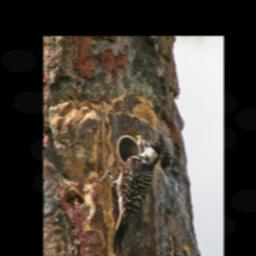Woodpecker: (100, 136, 162, 253)
